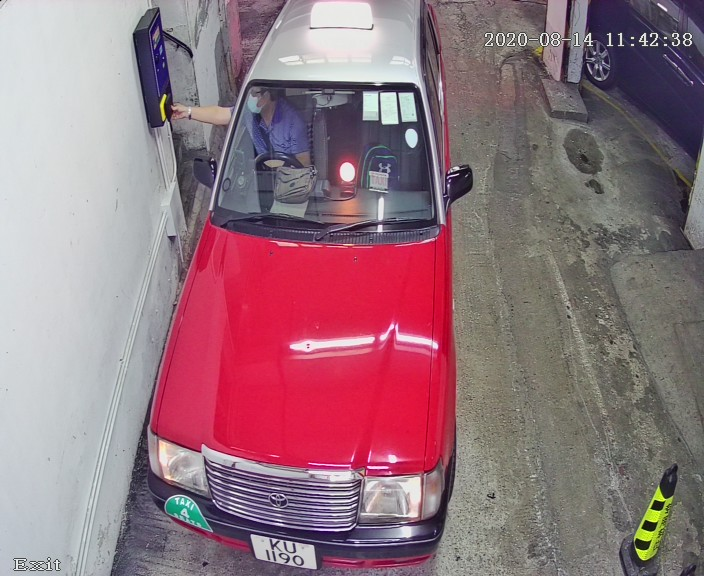taxi: (132, 8, 472, 576)
taxi_mark: (161, 487, 217, 542)
